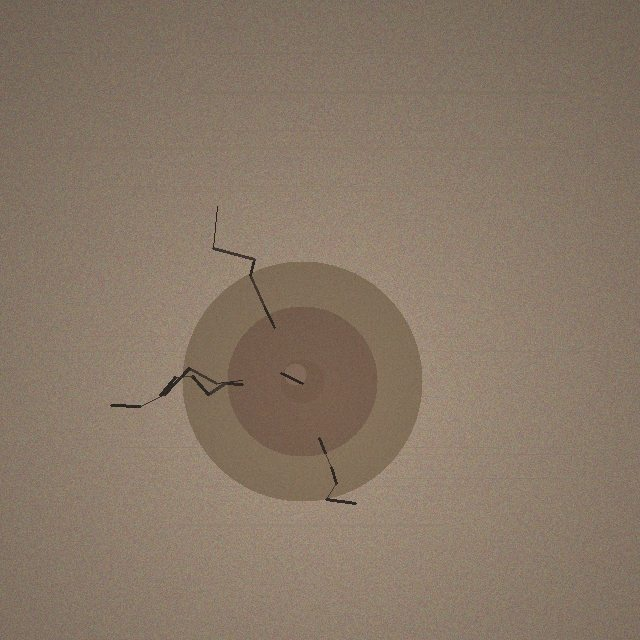crack: (182, 261, 422, 501)
